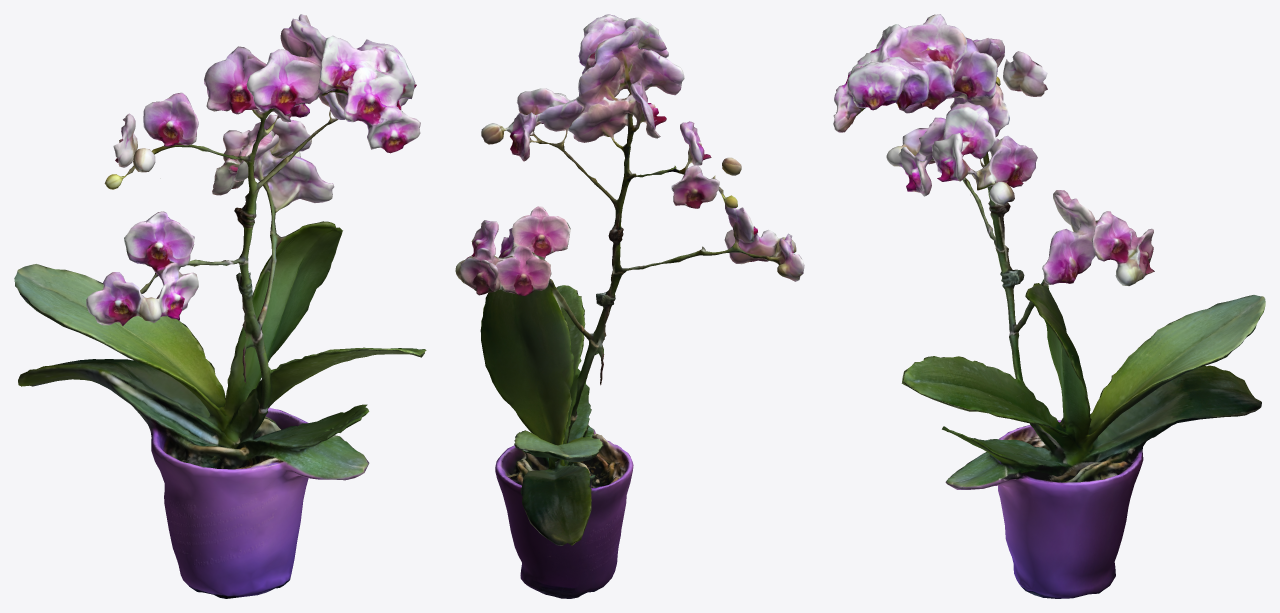
File: flor.glb
The picture shows the model from 3 angles, left to right: view 1: azimuth 30°, elevation 25°; view 2: azimuth 150°, elevation 25°; view 3: azimuth 270°, elevation 25°; orthographic projection. The views are drawn at different scales.
Parts seen in each view (by area): view 1: ObjectCapture; view 2: ObjectCapture; view 3: ObjectCapture.
Boxes of the visible parts, box(x1,y1,x2,y2) form: ObjectCapture: box(14, 14, 426, 598); ObjectCapture: box(455, 14, 804, 598); ObjectCapture: box(833, 14, 1265, 598).
Bounding box in the file's own units: 0.3154 × 0.5228 × 0.3627.
Materials: 2 (2 with a texture image).
